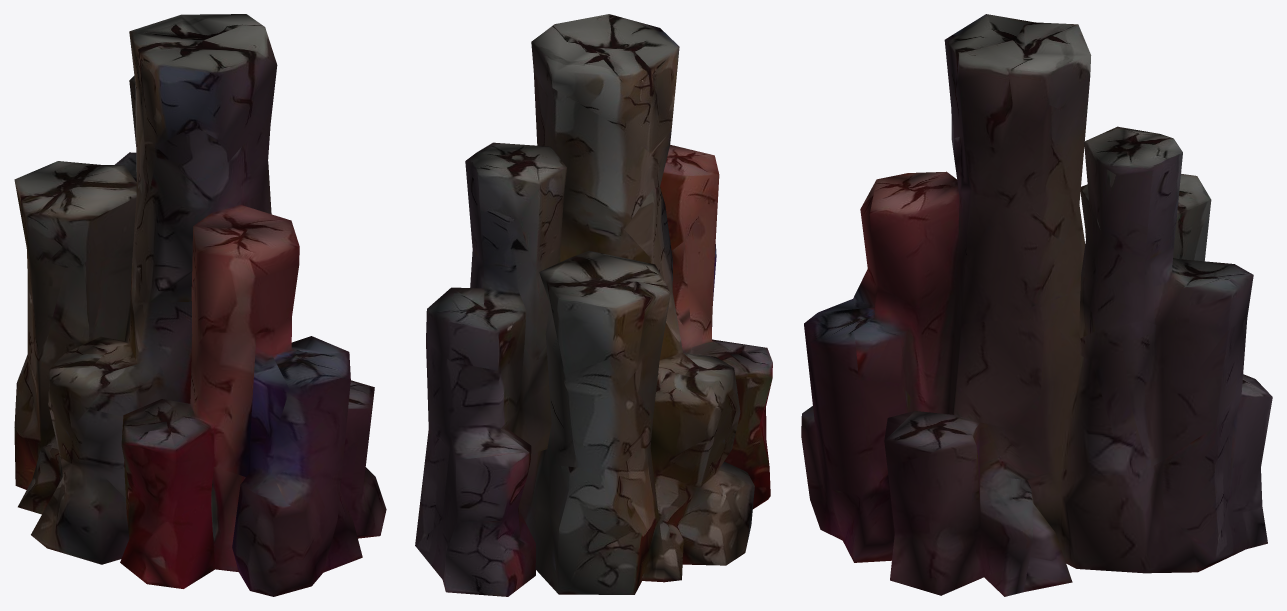
File: deep-basalt.glb
3 renders of one model, left to right at view 1: azimuth 30°, elevation 25°; view 2: azimuth 150°, elevation 25°; view 3: azimuth 270°, elevation 25°, orthographic. The views are drawn at different scales.
Visible parts, largest first — view 1: tripo_node_8e951a5c-e657-4baf-9bc3-9789dbd7b523; view 2: tripo_node_8e951a5c-e657-4baf-9bc3-9789dbd7b523; view 3: tripo_node_8e951a5c-e657-4baf-9bc3-9789dbd7b523.
Boxes of the visible parts, <box> form: tripo_node_8e951a5c-e657-4baf-9bc3-9789dbd7b523: <box>14,14,386,596</box>; tripo_node_8e951a5c-e657-4baf-9bc3-9789dbd7b523: <box>415,14,772,596</box>; tripo_node_8e951a5c-e657-4baf-9bc3-9789dbd7b523: <box>801,14,1272,596</box>.
Bounding box in the file's own units: 0.6459 × 0.9996 × 0.8827.
1 material, 1 textured.
